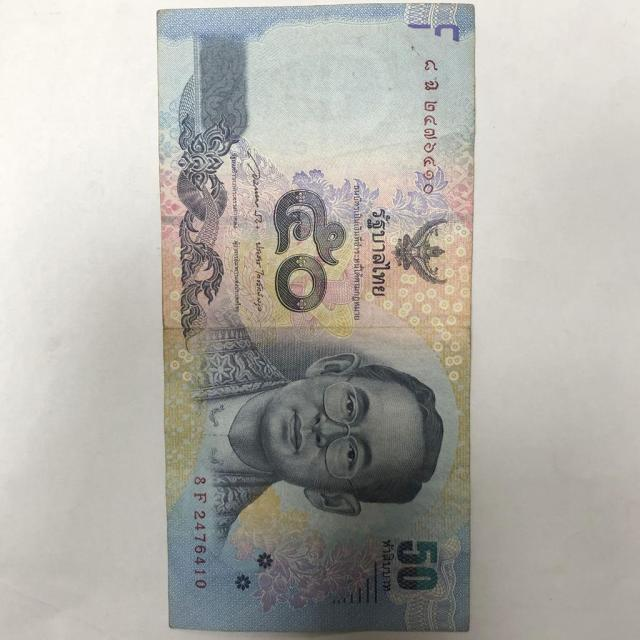THAI50: (157, 3, 475, 631)
